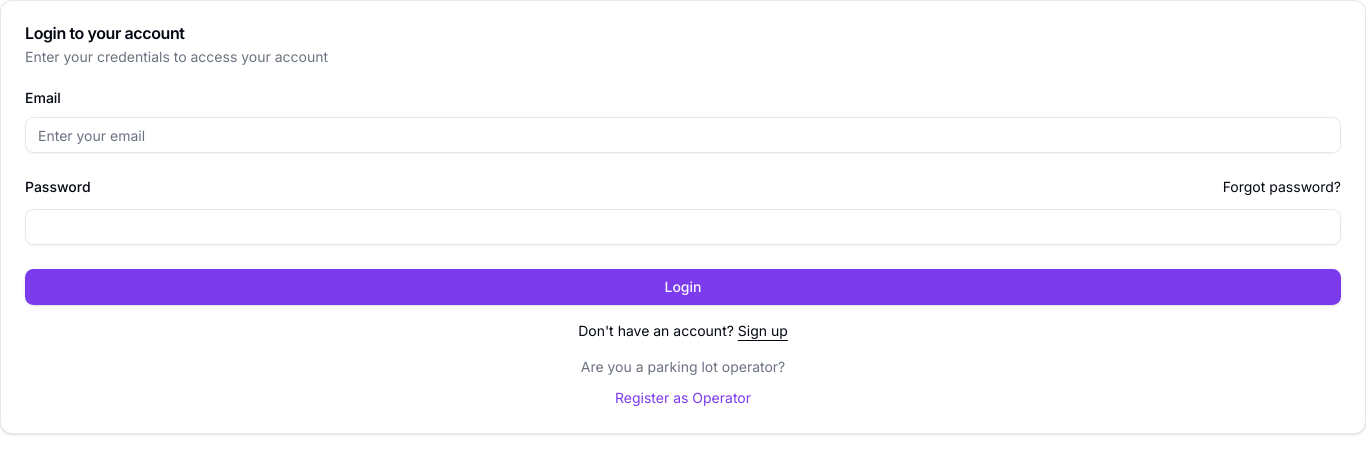
Test: LoginForm › should show loading state during login
This screenshot has width=1366, height=452.
// Fill out the form
Type "test@example.com" into the field labelled "Email".
click(683, 135); type("test@example.com")  # box [25,117,1341,153]
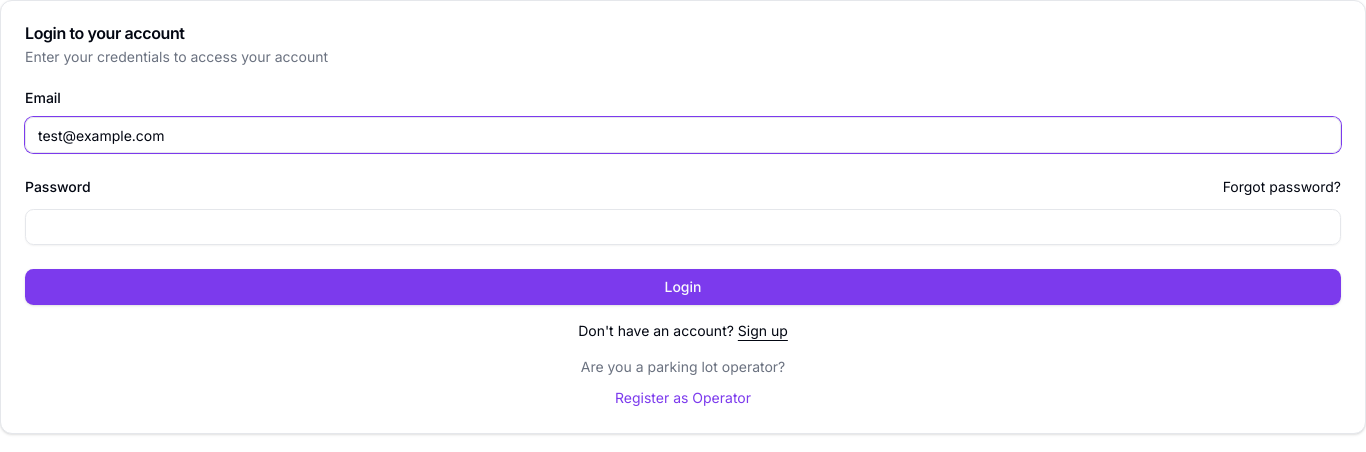
Type "password123" into the password field labelled "Password".
click(683, 227); type("password123")  # box [25,209,1341,245]
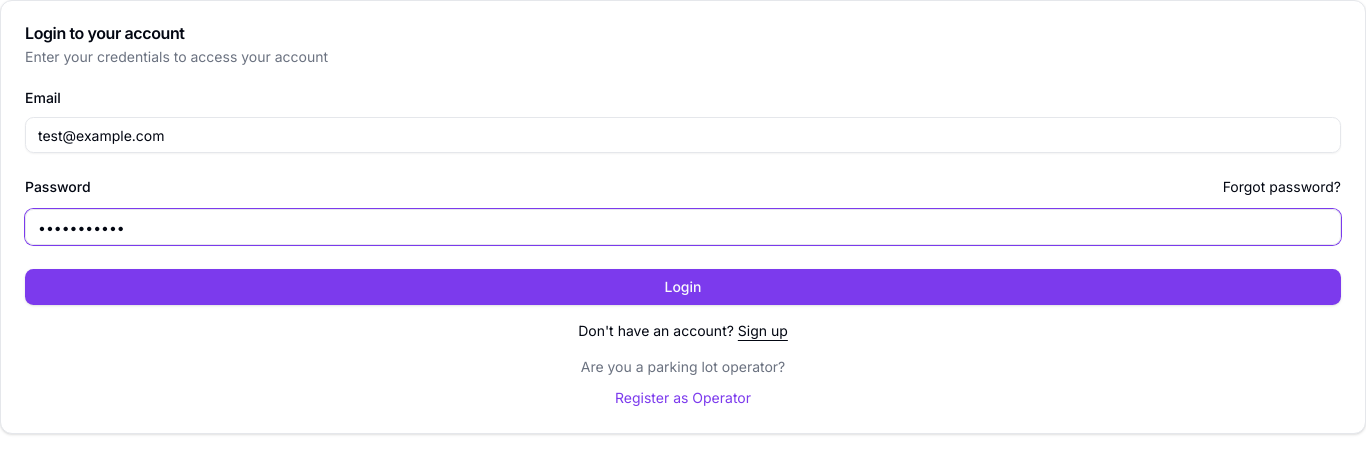
// Submit the form
Click the button "Login".
click(683, 287)  # box [25,269,1341,305]
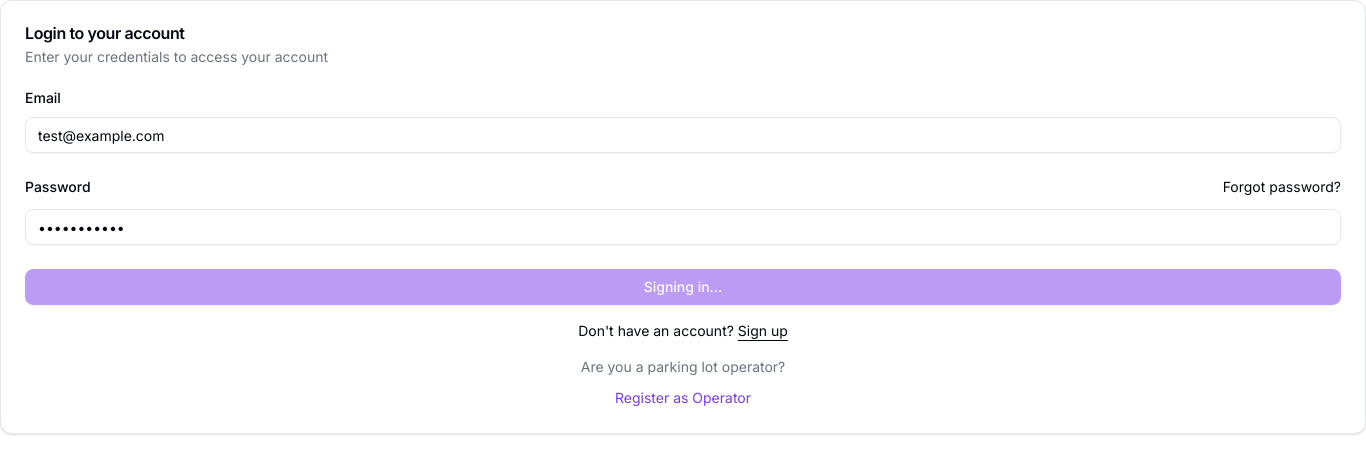
Now the button "Signing in..." is disabled, box [25,269,1341,305]
